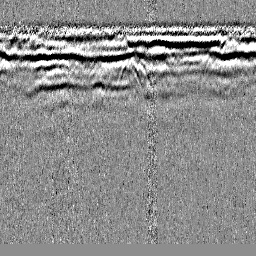cavity: (117, 52, 141, 88)
